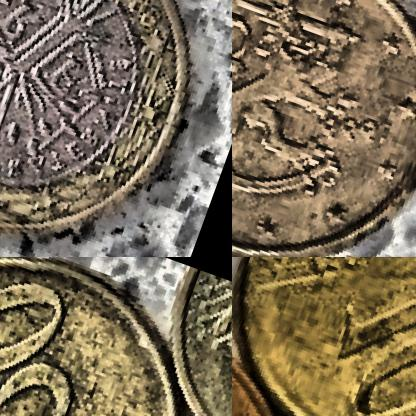coin: (0, 0, 231, 256), (232, 0, 415, 256), (0, 257, 227, 415), (232, 257, 415, 415)
